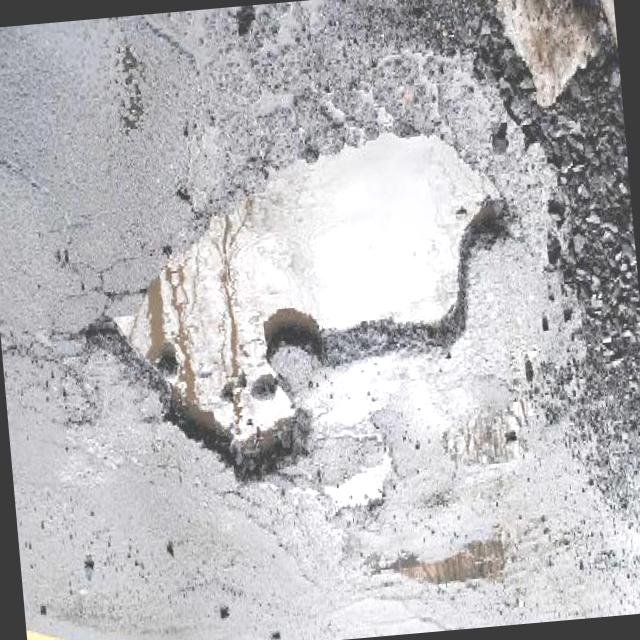pothole: (68, 120, 532, 507), (380, 533, 507, 599), (321, 448, 398, 522)
